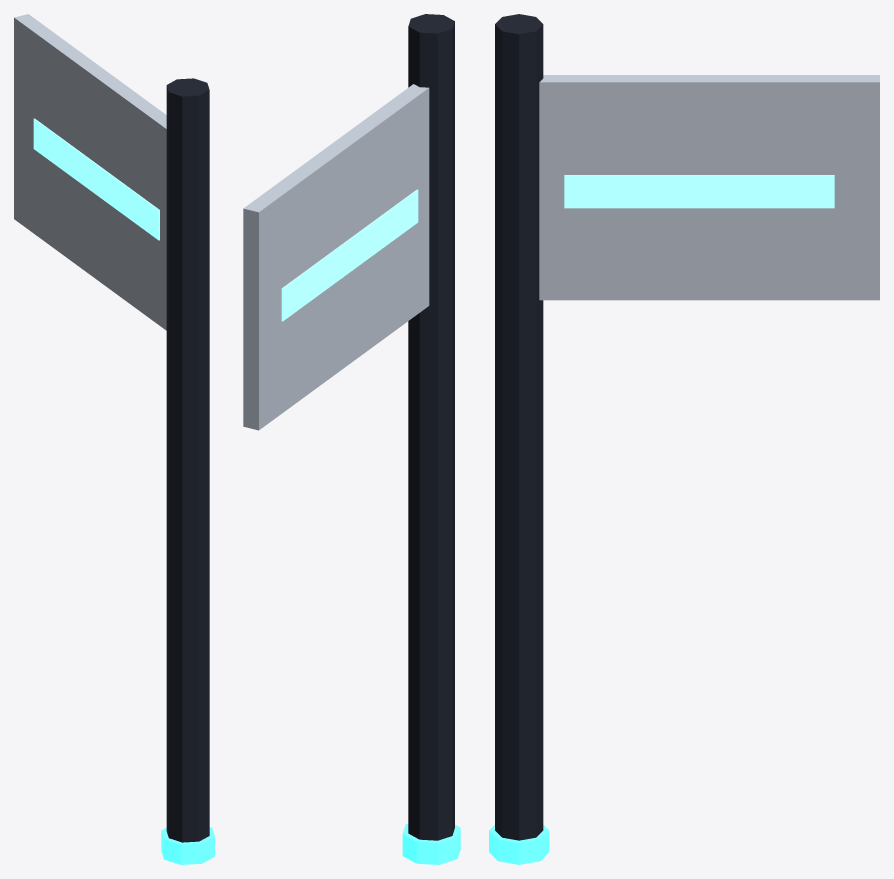
Rendered from mod_bandera.fbx.
3 views of the same model, side by side, from view 1: azimuth 30°, elevation 25°; view 2: azimuth 150°, elevation 25°; view 3: azimuth 270°, elevation 25° (orthographic). The views are drawn at different scales.
Visible parts, largest first — view 1: Bandera, Bandera_Neon, Bandera_Conectores; view 2: Bandera, Bandera_Neon, Bandera_Conectores; view 3: Bandera, Bandera_Neon, Bandera_Conectores.
Boxes of the visible parts, <box> form: Bandera: <box>14,14,209,842</box>; Bandera_Neon: <box>33,118,159,240</box>; Bandera_Conectores: <box>161,827,214,864</box>; Bandera: <box>243,14,454,840</box>; Bandera_Neon: <box>281,189,418,321</box>; Bandera_Conectores: <box>402,824,460,864</box>; Bandera: <box>495,14,879,840</box>; Bandera_Neon: <box>564,175,834,208</box>; Bandera_Conectores: <box>489,825,549,864</box>.
Size of the model in its own units: 0.056 by 0.8512 by 0.364.
